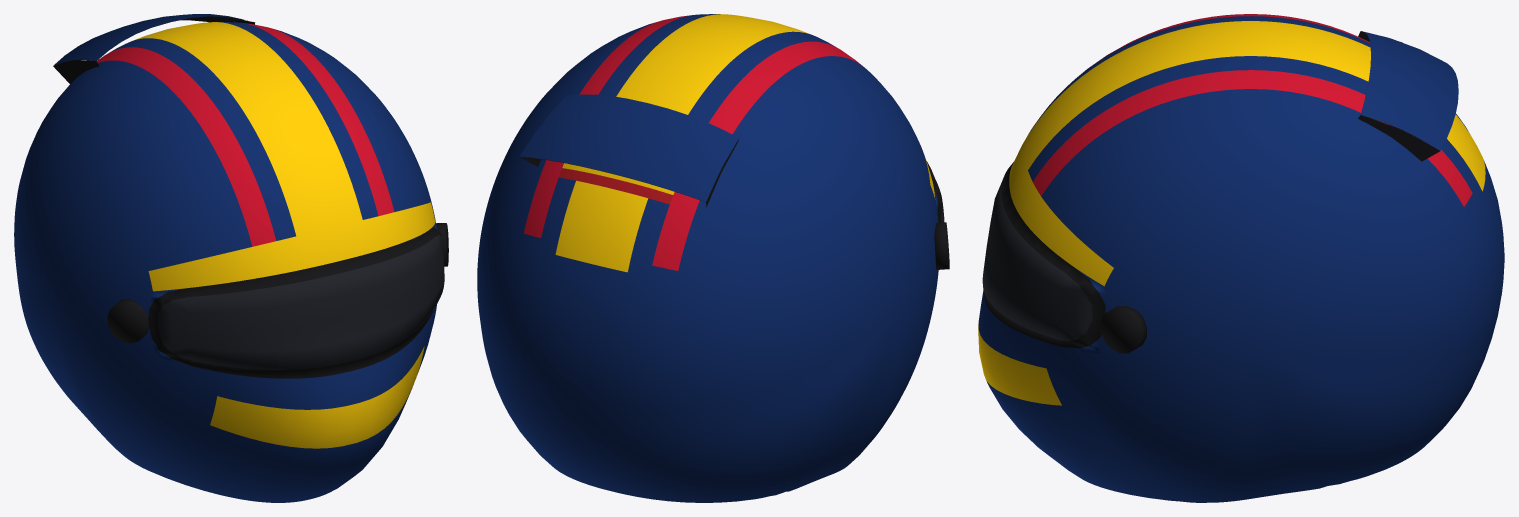
File: ALO.glb
3 renders of one model, left to right at view 1: azimuth 30°, elevation 25°; view 2: azimuth 150°, elevation 25°; view 3: azimuth 270°, elevation 25°, orthographic. The views are drawn at different scales.
Parts seen in each view (by area): view 1: helmet; view 2: helmet; view 3: helmet.
Part boxes in pixels (x1=…): helmet: x1=14, y1=14, x2=448, y2=502; helmet: x1=477, y1=14, x2=949, y2=502; helmet: x1=978, y1=14, x2=1504, y2=502.
Size of the model in its own units: 0.256 by 0.2772 by 0.3111.
